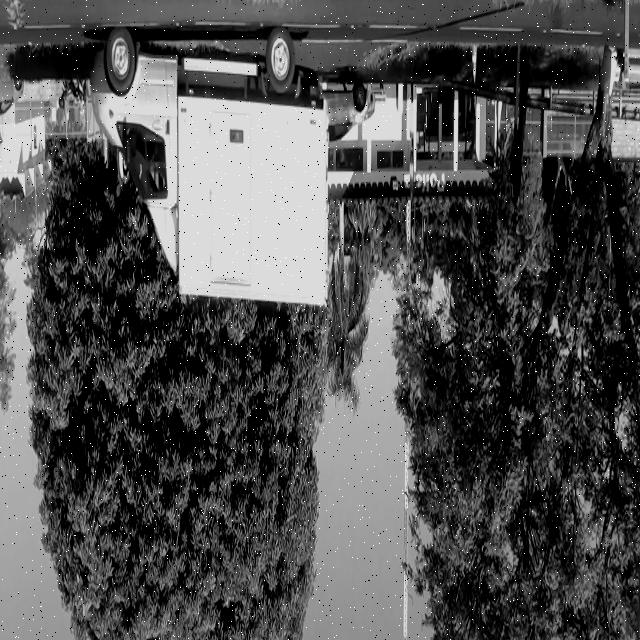-axle: (104, 26, 136, 96), (265, 27, 294, 95)
